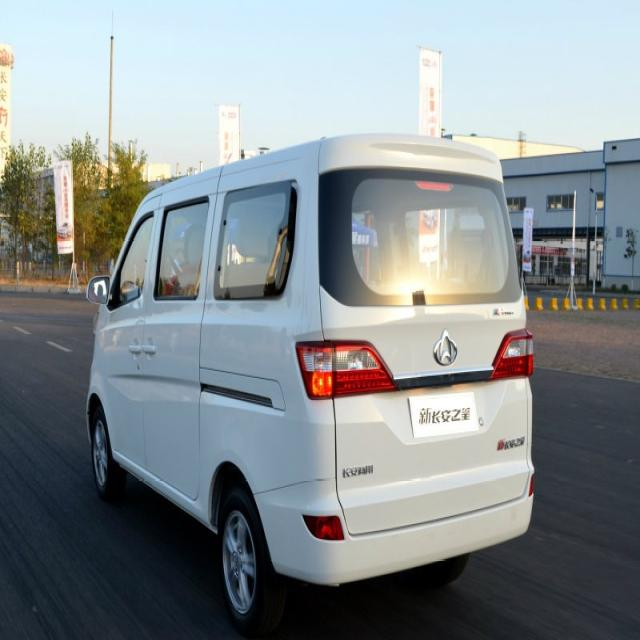back_glass: (318, 166, 522, 305)
back_left_side_light: (295, 333, 398, 403)
back_right_side_light: (489, 329, 535, 384)
door: (140, 188, 222, 502)
front_left_side_door: (98, 190, 170, 480)
front_left_side_mirror: (86, 274, 110, 305)
rear_bumper: (250, 460, 537, 588)
wheel: (217, 492, 269, 624), (90, 406, 116, 487)
